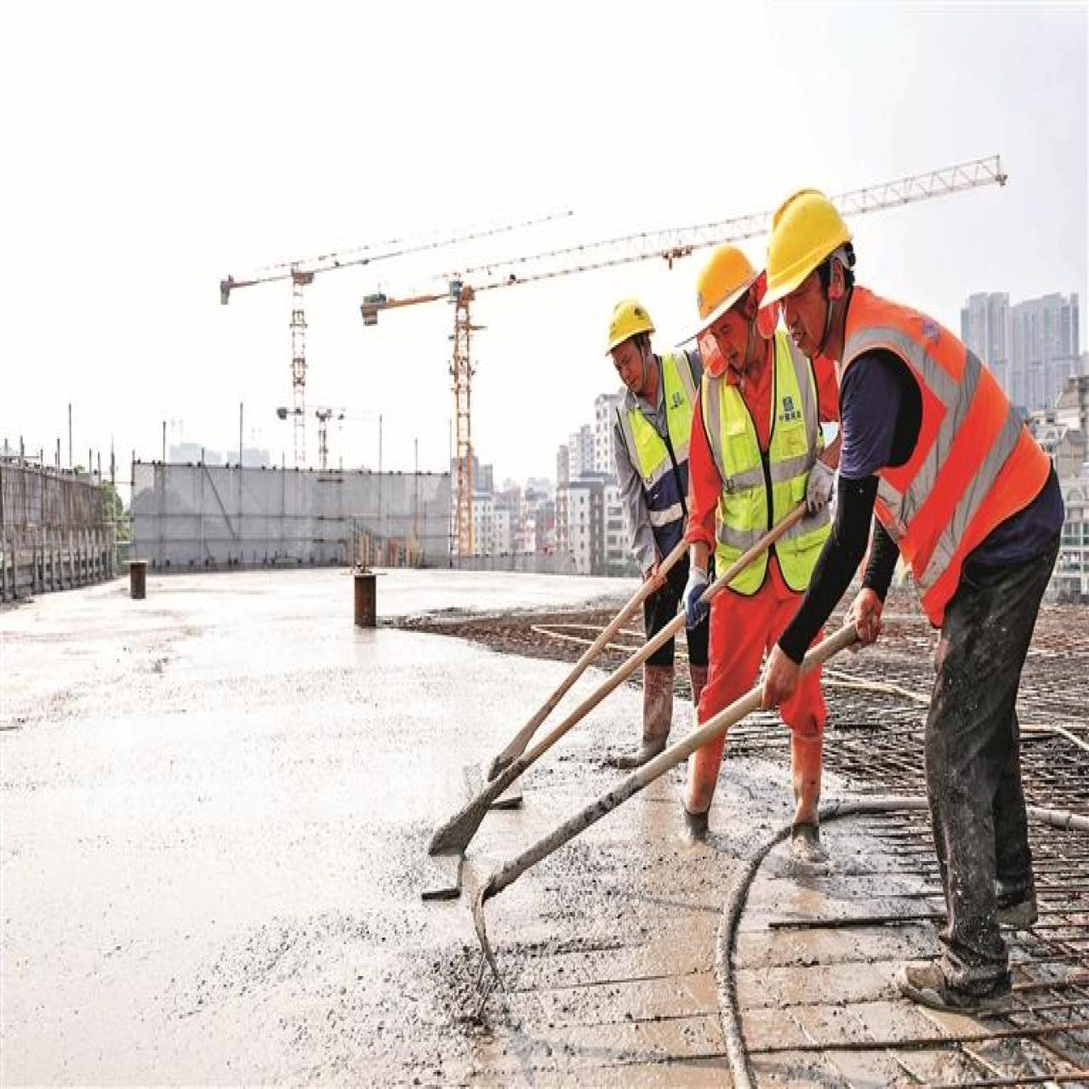Person: (756, 166, 1069, 1021), (671, 235, 871, 859), (586, 279, 754, 786)
Safety_Vest: (838, 270, 1058, 619), (693, 331, 844, 605), (614, 353, 707, 568)
